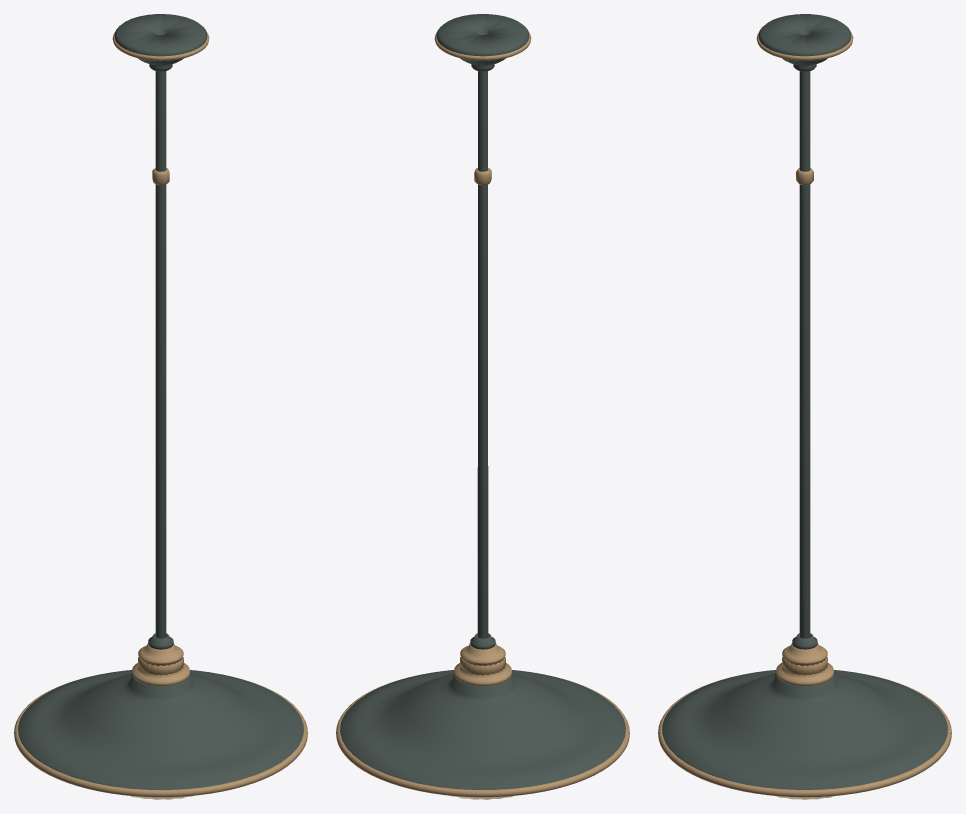
Rendered from HallPendant_LOD1.fbx.
The picture shows the model from 3 angles, left to right: view 1: azimuth 30°, elevation 25°; view 2: azimuth 150°, elevation 25°; view 3: azimuth 270°, elevation 25°; orthographic projection.
Visible parts, largest first — view 1: HallPendant_LOD1; view 2: HallPendant_LOD1; view 3: HallPendant_LOD1.
Boxes of the visible parts, <box> form: HallPendant_LOD1: <box>14,14,307,799</box>; HallPendant_LOD1: <box>336,14,629,799</box>; HallPendant_LOD1: <box>658,14,951,799</box>.
Bounding box in the file's own units: 72.4 × 205 × 72.4.
